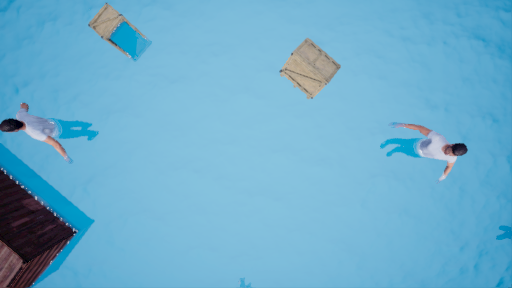person: (374, 116, 462, 185), (2, 104, 96, 160)
